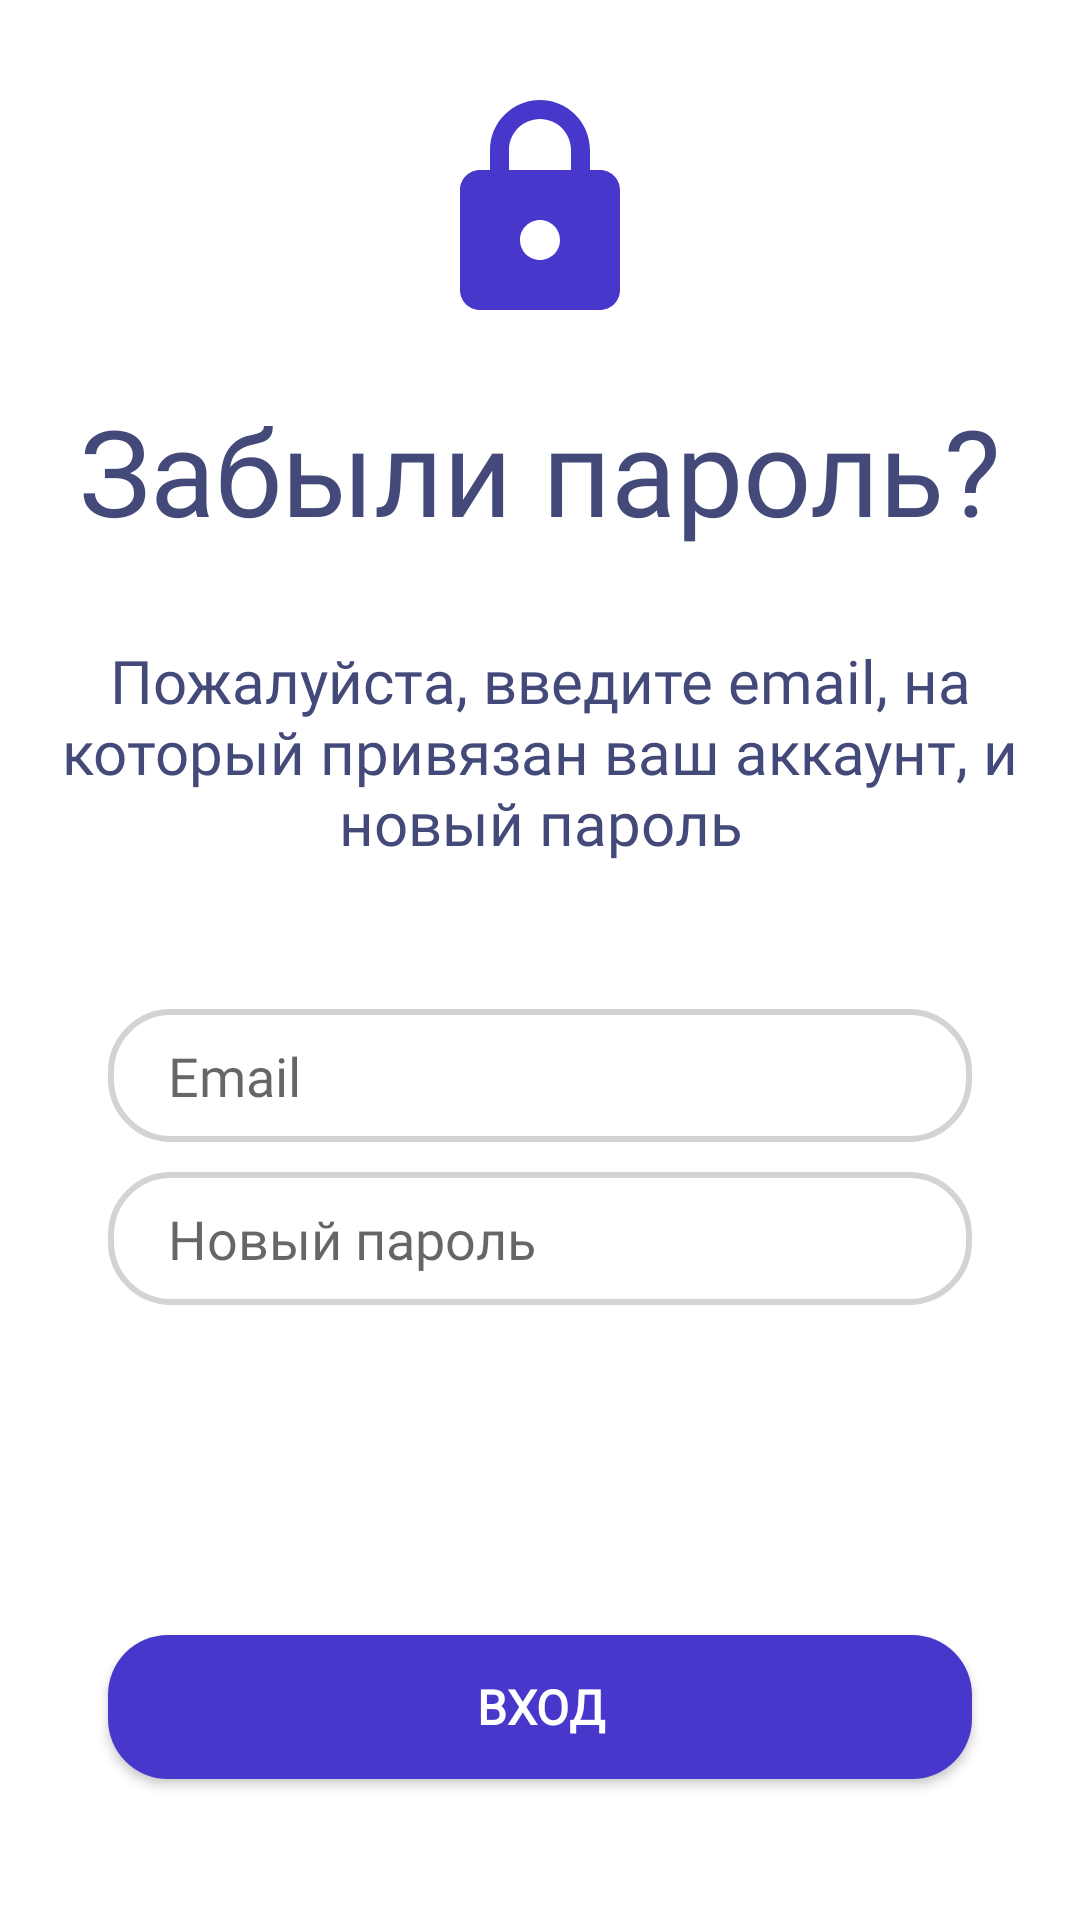

Where to tap for icons on this 1080*1920 app screen, as (x,y):
lock: (540,205)
